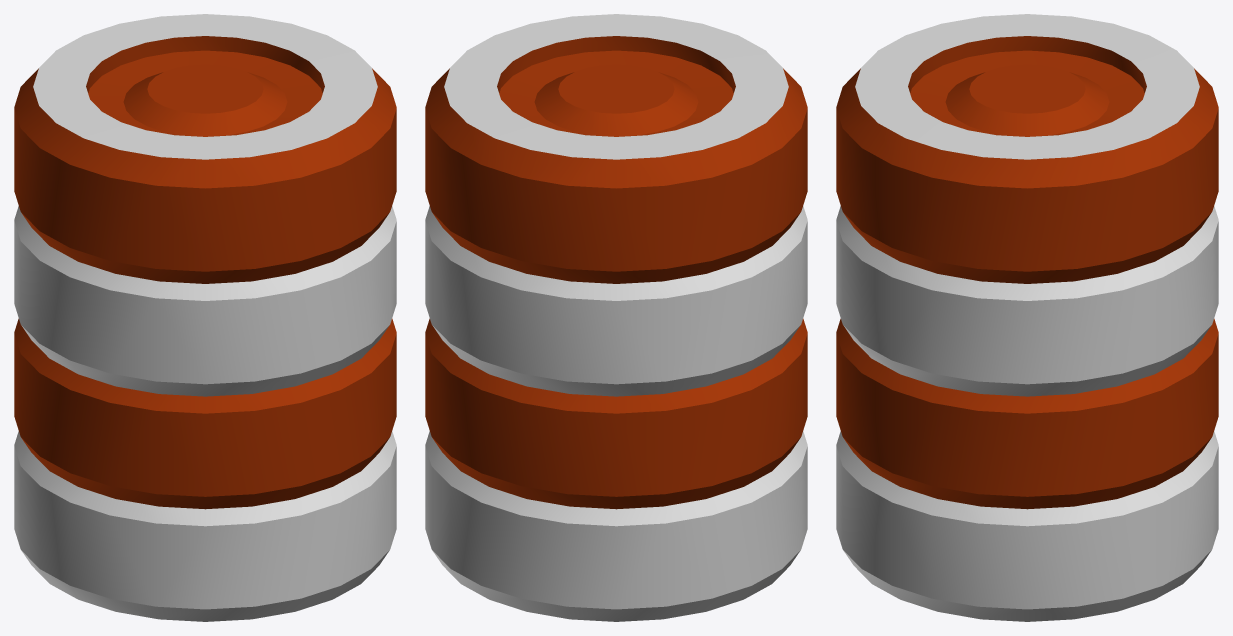
The model's file is Barrel.model(1).fbx.
3 renders of one model, left to right at view 1: azimuth 30°, elevation 25°; view 2: azimuth 150°, elevation 25°; view 3: azimuth 270°, elevation 25°, orthographic.
Visible parts, largest first — view 1: wheel_smallVintage%_35, wheel_smallVintage%_31, wheel_smallVintage%_34, wheel_smallVintage%_33; view 2: wheel_smallVintage%_35, wheel_smallVintage%_31, wheel_smallVintage%_34, wheel_smallVintage%_33; view 3: wheel_smallVintage%_35, wheel_smallVintage%_31, wheel_smallVintage%_34, wheel_smallVintage%_33.
Part boxes in pixels (x1,y1,x2,y2): wheel_smallVintage%_35: (14, 14, 396, 283); wheel_smallVintage%_31: (14, 431, 396, 621); wheel_smallVintage%_34: (14, 206, 396, 396); wheel_smallVintage%_33: (14, 318, 396, 509); wheel_smallVintage%_35: (425, 14, 807, 283); wheel_smallVintage%_31: (425, 431, 807, 621); wheel_smallVintage%_34: (425, 206, 807, 396); wheel_smallVintage%_33: (425, 318, 807, 509); wheel_smallVintage%_35: (836, 14, 1218, 283); wheel_smallVintage%_31: (836, 431, 1218, 621); wheel_smallVintage%_34: (836, 206, 1218, 396); wheel_smallVintage%_33: (836, 318, 1218, 509).
Bounding box in the file's own units: 6.16 × 8.16 × 6.16.
